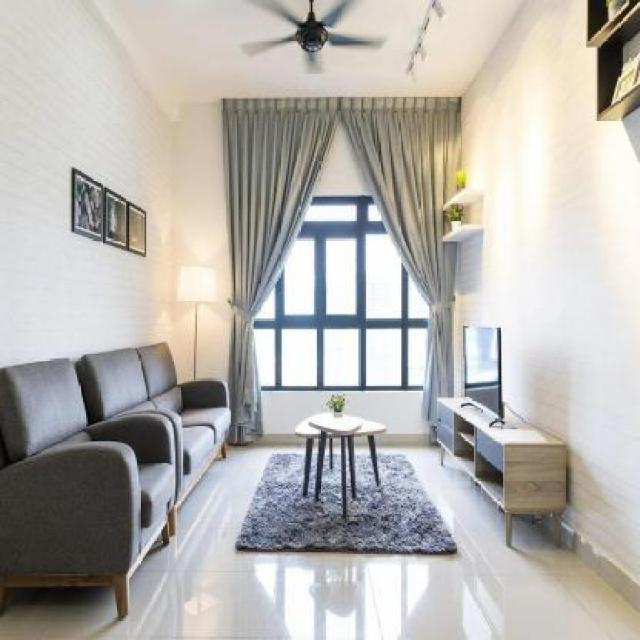Floor: (1, 444, 639, 639), (354, 444, 370, 454), (333, 444, 340, 454), (312, 444, 318, 454), (324, 444, 330, 454), (345, 444, 348, 454)
